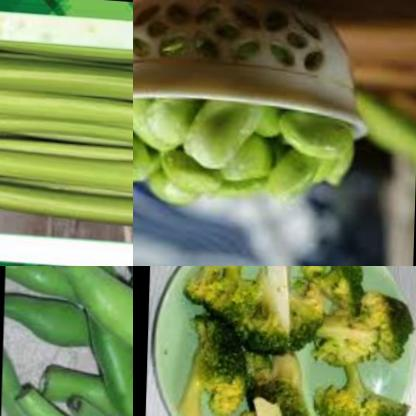beans: (133, 58, 368, 240), (1, 266, 133, 416), (346, 81, 416, 195)
broccoli: (173, 279, 253, 416), (304, 338, 406, 416), (231, 341, 317, 416), (314, 295, 416, 352), (182, 266, 271, 311), (294, 266, 372, 316)
celery: (0, 100, 133, 238), (0, 30, 133, 137)
